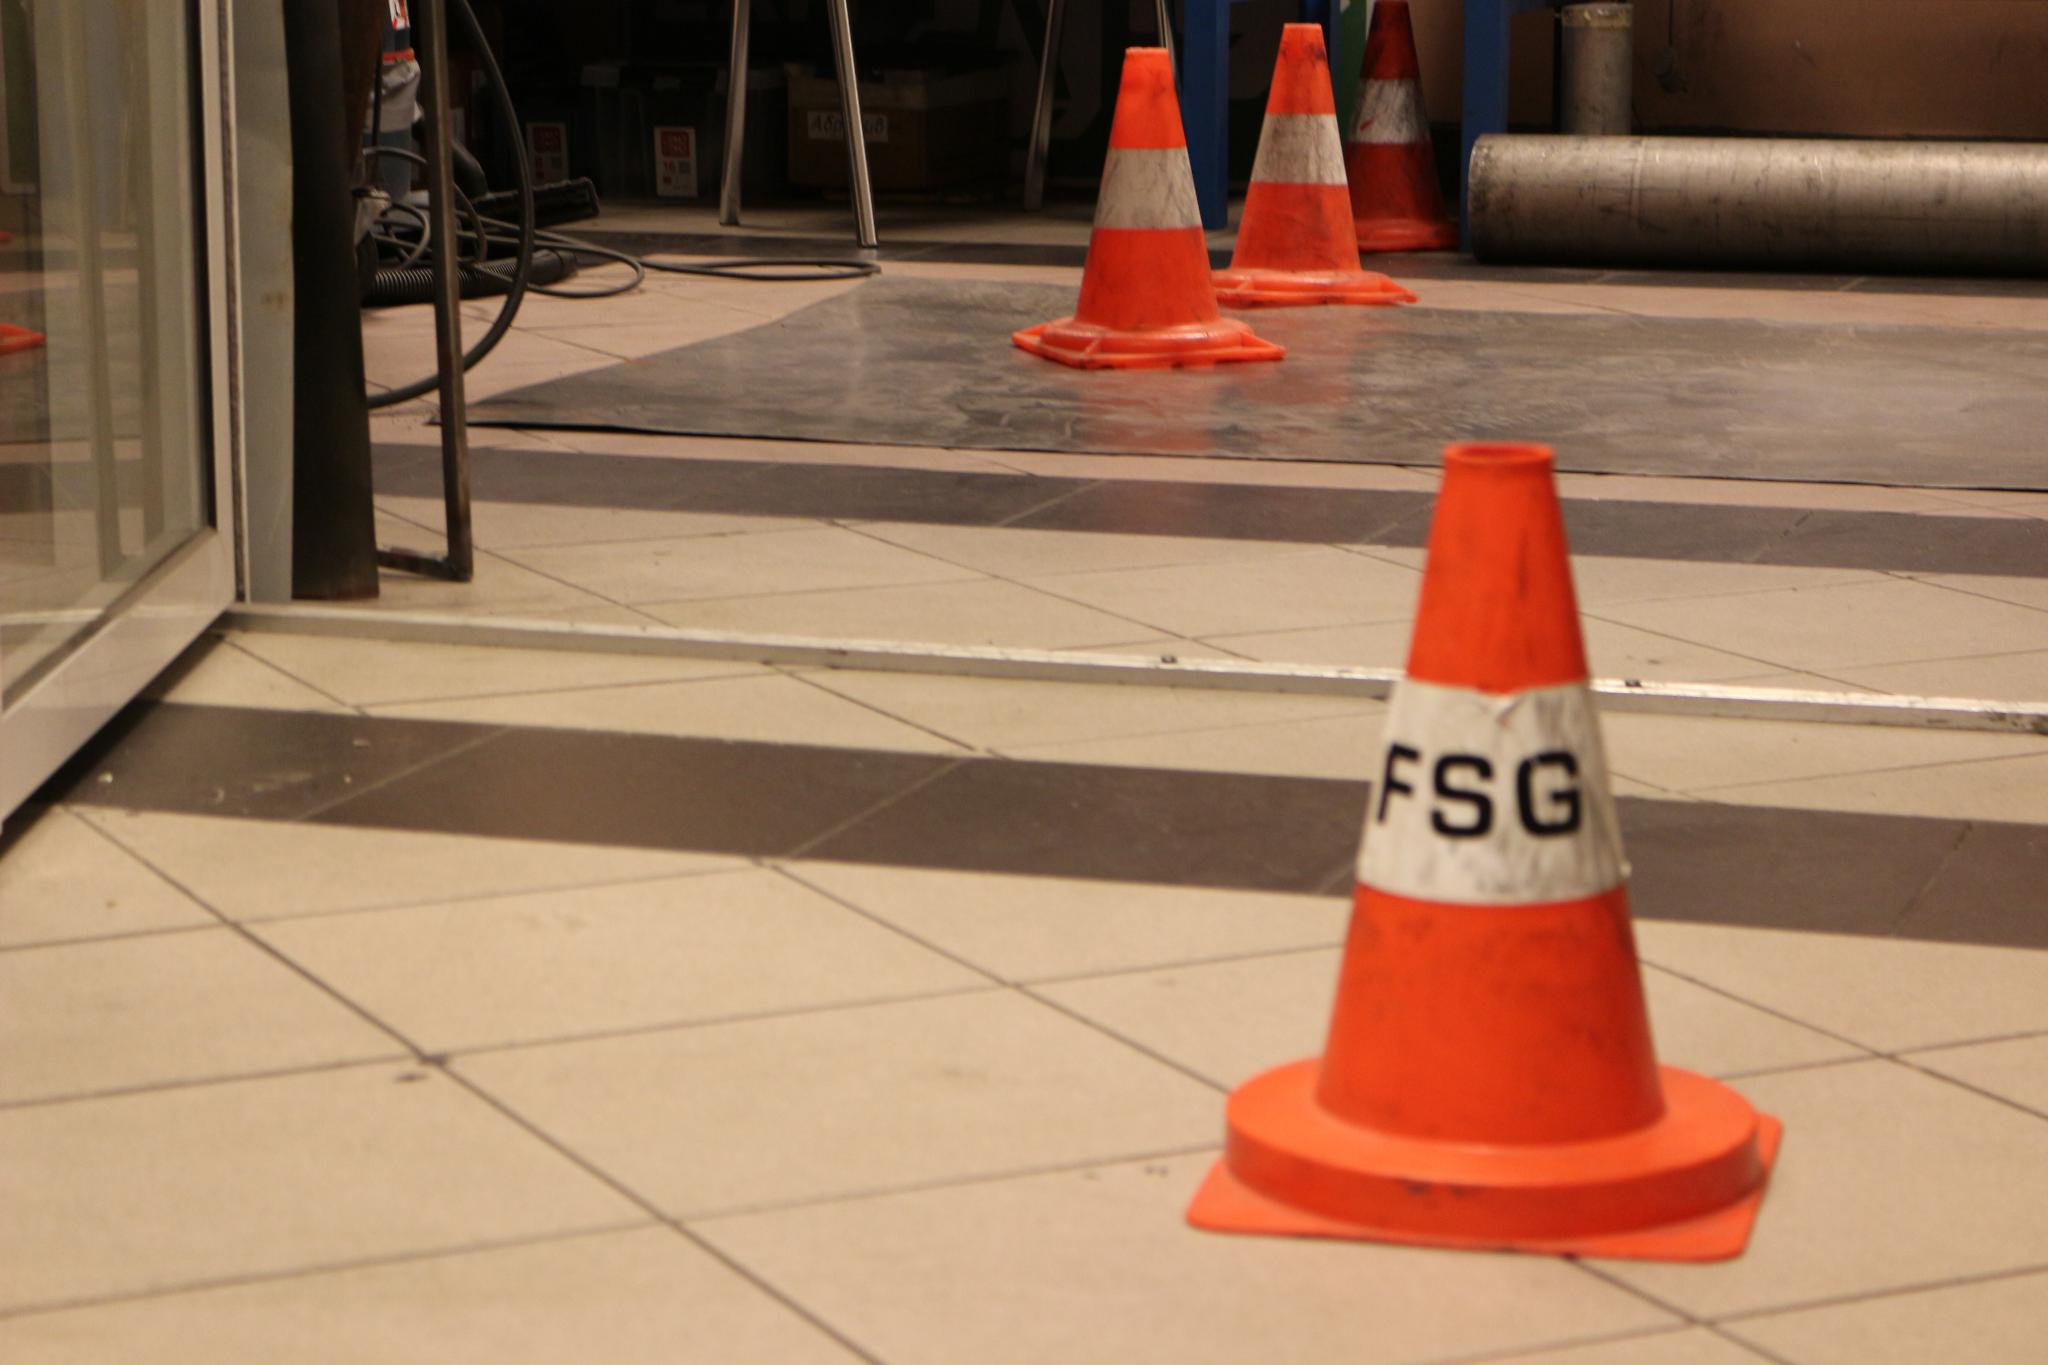Orange_Cone: (1203, 439, 1791, 1239), (1022, 44, 1278, 369), (1203, 14, 1410, 305), (1337, 2, 1462, 251)
